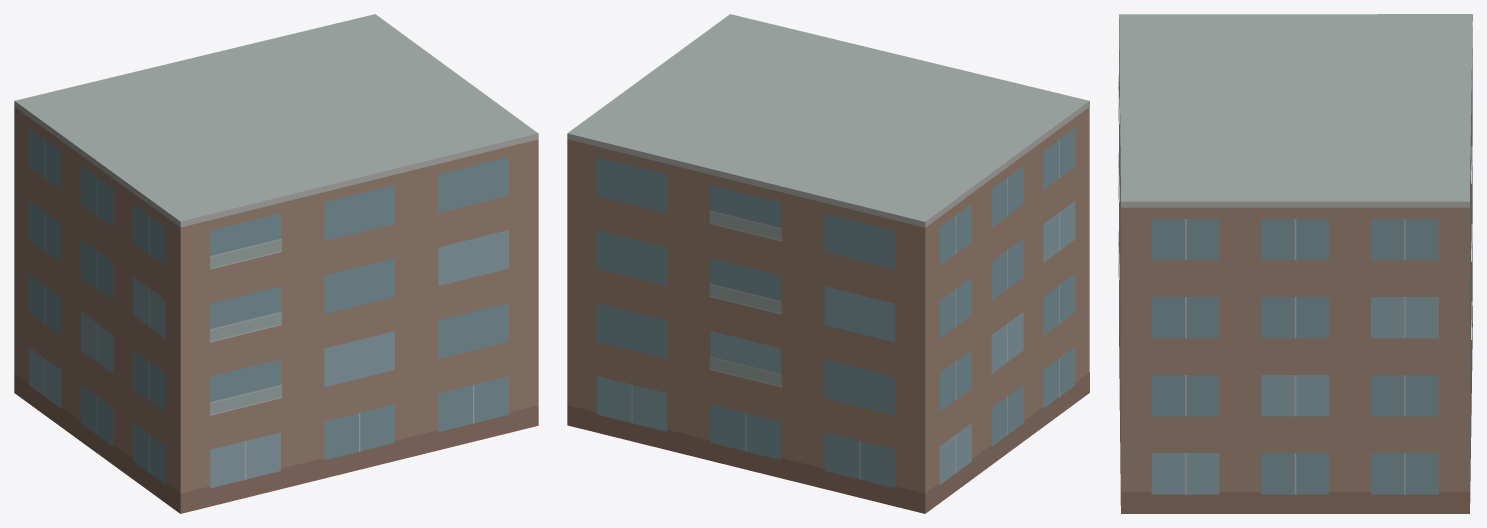
File: survey-upis-32606985.glb
The picture shows the model from 3 angles, left to right: view 1: azimuth 30°, elevation 25°; view 2: azimuth 150°, elevation 25°; view 3: azimuth 270°, elevation 25°; orthographic projection. The views are drawn at different scales.
Visible parts, largest first — view 1: survey-upis-32606985.tmp; view 2: survey-upis-32606985.tmp; view 3: survey-upis-32606985.tmp.
Part boxes in pixels (left/top/right/bottom): survey-upis-32606985.tmp: left=14, top=14, right=538, bottom=513; survey-upis-32606985.tmp: left=567, top=14, right=1089, bottom=513; survey-upis-32606985.tmp: left=1118, top=14, right=1472, bottom=513.
Bounding box in the file's own units: 15.73 × 12.2 × 12.56.
